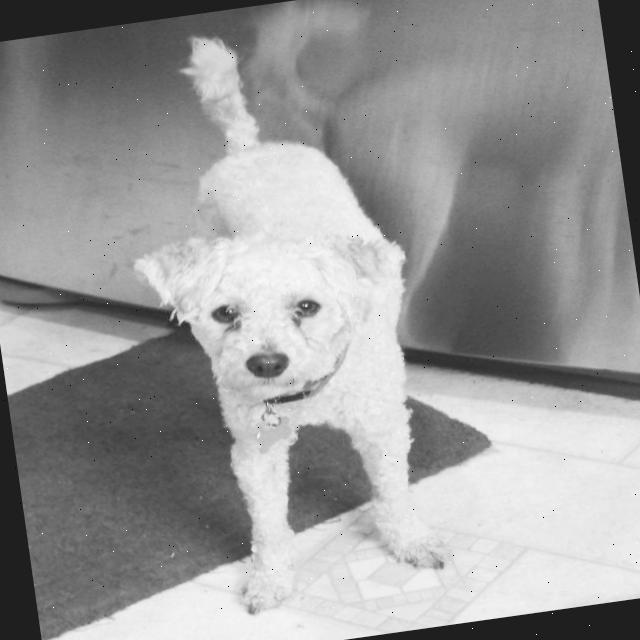Poodle_dog: (124, 200, 432, 422)
